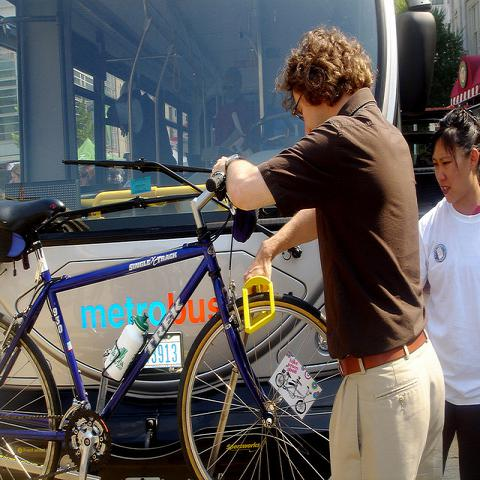bus: (0, 0, 440, 468)
